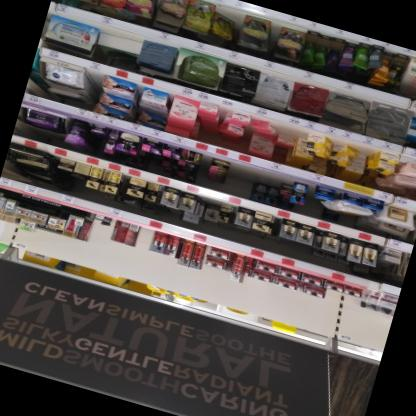empty_space: (225, 162, 255, 199), (134, 226, 155, 256)
